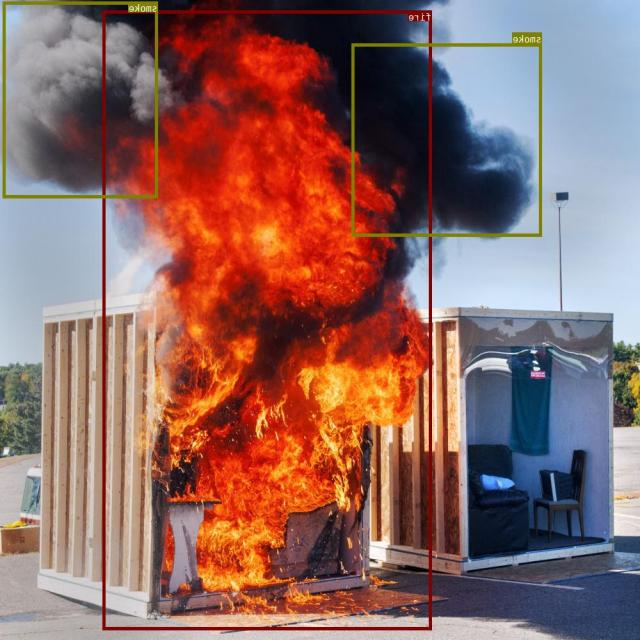fire: (104, 10, 432, 629)
smoke: (352, 43, 542, 236), (3, 1, 159, 197)
